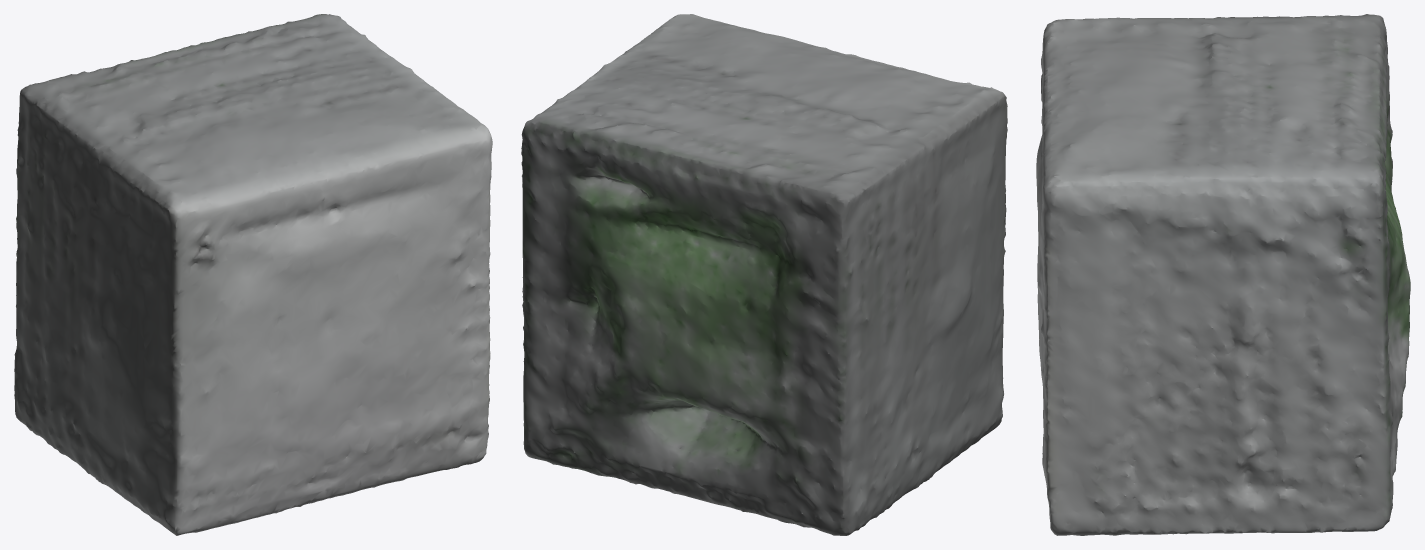
File: cream.glb
3 renders of one model, left to right at view 1: azimuth 30°, elevation 25°; view 2: azimuth 150°, elevation 25°; view 3: azimuth 270°, elevation 25°, orthographic. The views are drawn at different scales.
Size of the model in its own units: 0.9968 by 0.9882 by 0.8809.
